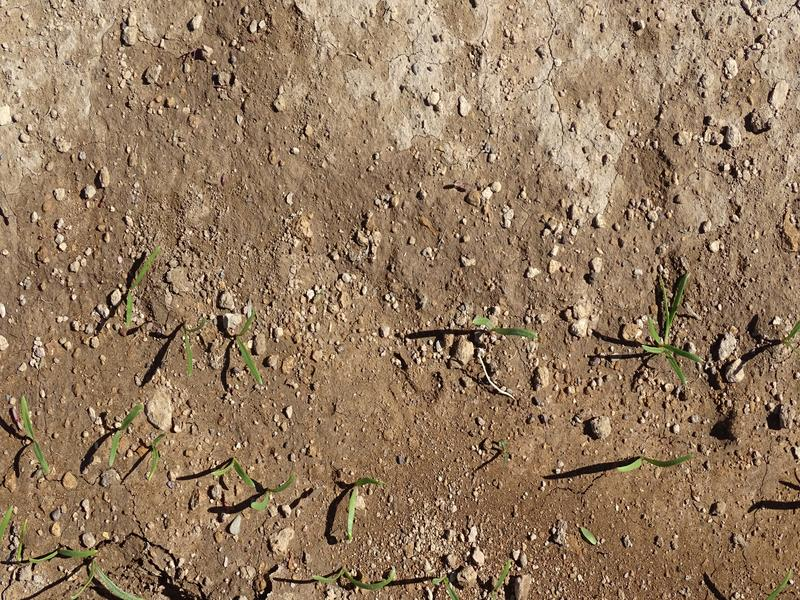Espinaca: (640, 274, 708, 386), (16, 394, 56, 475), (123, 245, 162, 323), (106, 403, 144, 466), (233, 315, 266, 384), (469, 315, 540, 346), (250, 475, 298, 511), (211, 451, 255, 488), (620, 453, 693, 475)
